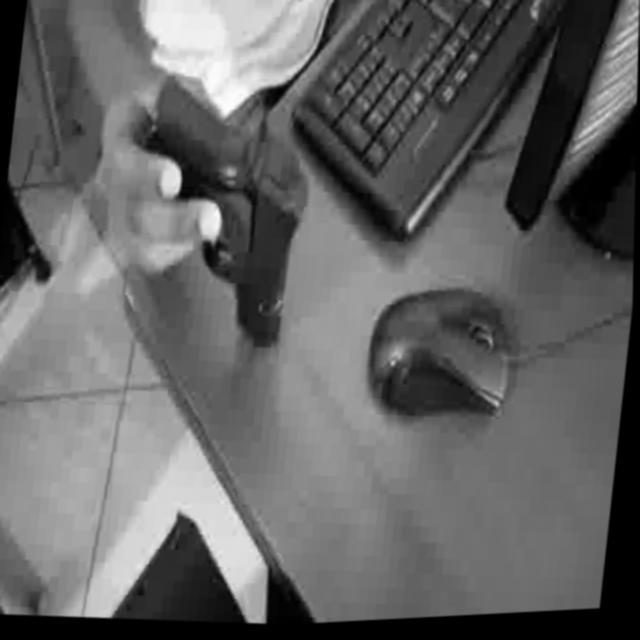weapon: (126, 67, 319, 351)
